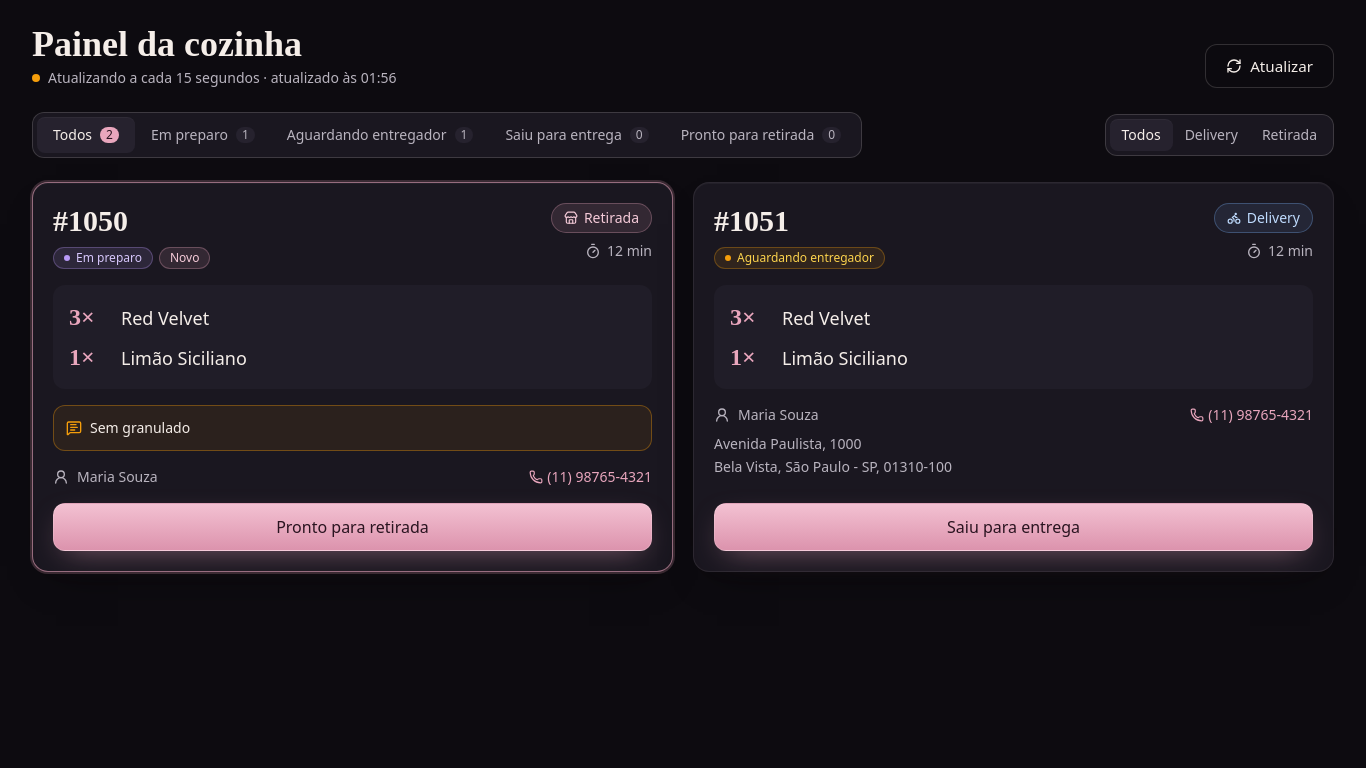
Scenario: KitchenPage (US13/US14) › avisa quando outra pessoa já avançou o pedido
This screenshot has width=1366, height=768.
Click the button "Pronto para retirada".
click(352, 527)  # box [53, 503, 652, 551]
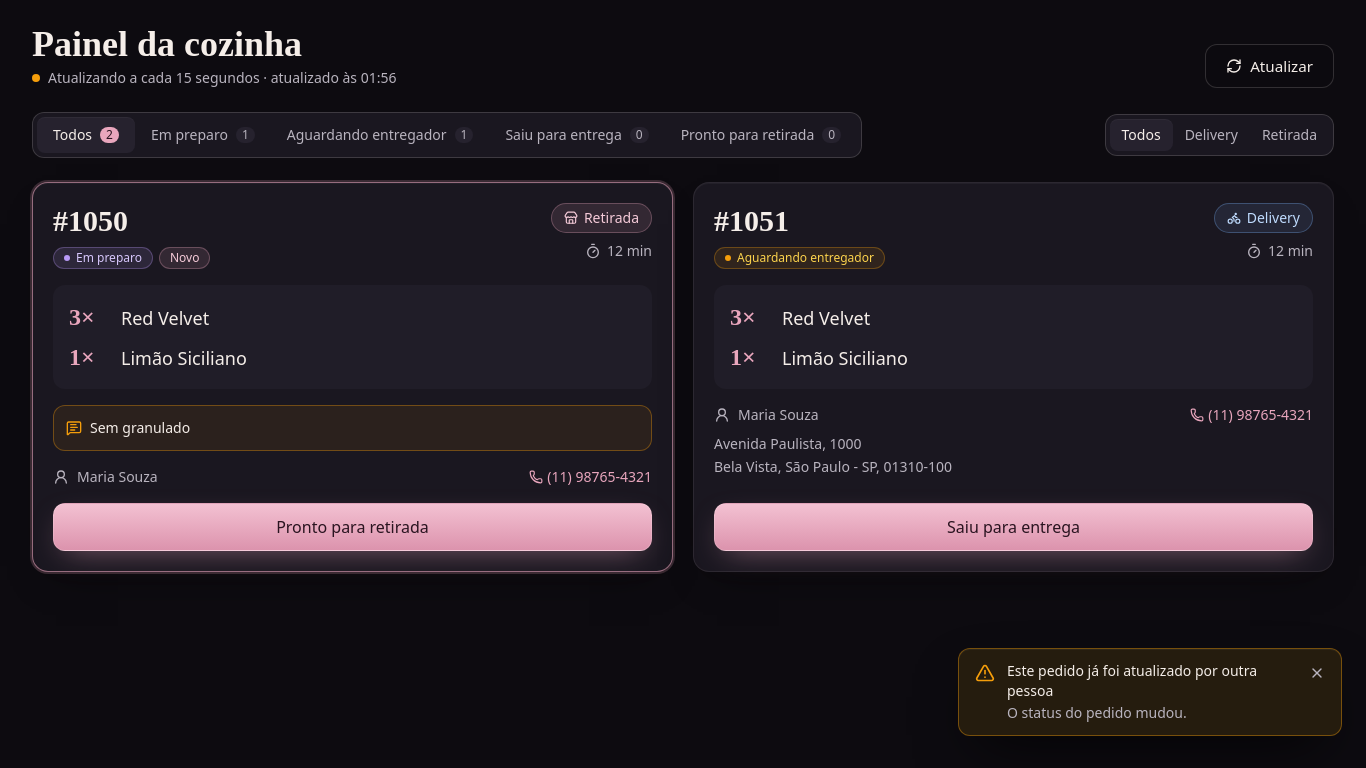
Result: the text "Este pedido já foi atualizado por outra pessoa" is shown at [1007, 661, 1293, 701]
